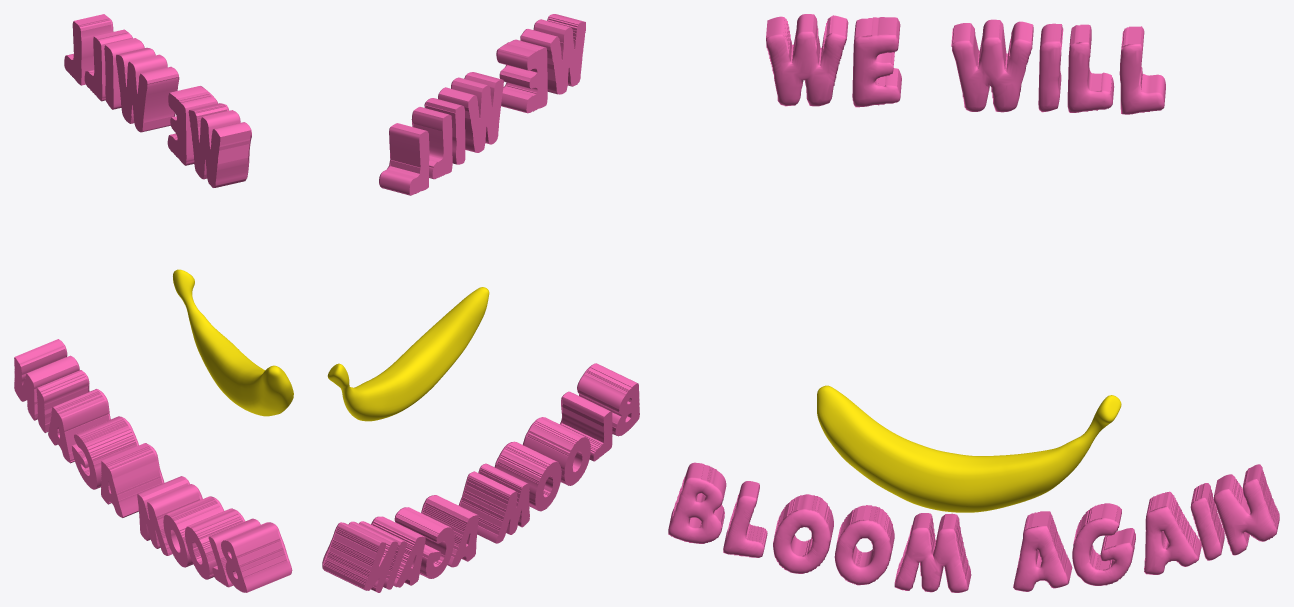
File: SummerComingText.gltf
3 views of the same model, side by side, from view 1: azimuth 30°, elevation 25°; view 2: azimuth 150°, elevation 25°; view 3: azimuth 270°, elevation 25° (orthographic). The views are drawn at different scales.
Parts seen in each view (by area): view 1: Bloom Again, We will, Banana; view 2: Bloom Again, We will, Banana; view 3: Bloom Again, We will, Banana.
Part boxes in pixels (box(x1,y1,x2,y2)): Bloom Again: box(14, 339, 292, 592); We will: box(64, 14, 251, 187); Banana: box(173, 269, 293, 416); Bloom Again: box(322, 363, 639, 592); We will: box(379, 14, 585, 195); Banana: box(327, 287, 489, 421); Bloom Again: box(668, 462, 1279, 592); We will: box(766, 14, 1165, 114); Banana: box(817, 385, 1121, 512).
Bounding box in the file's own units: 0.2596 × 0.7977 × 0.7869.
